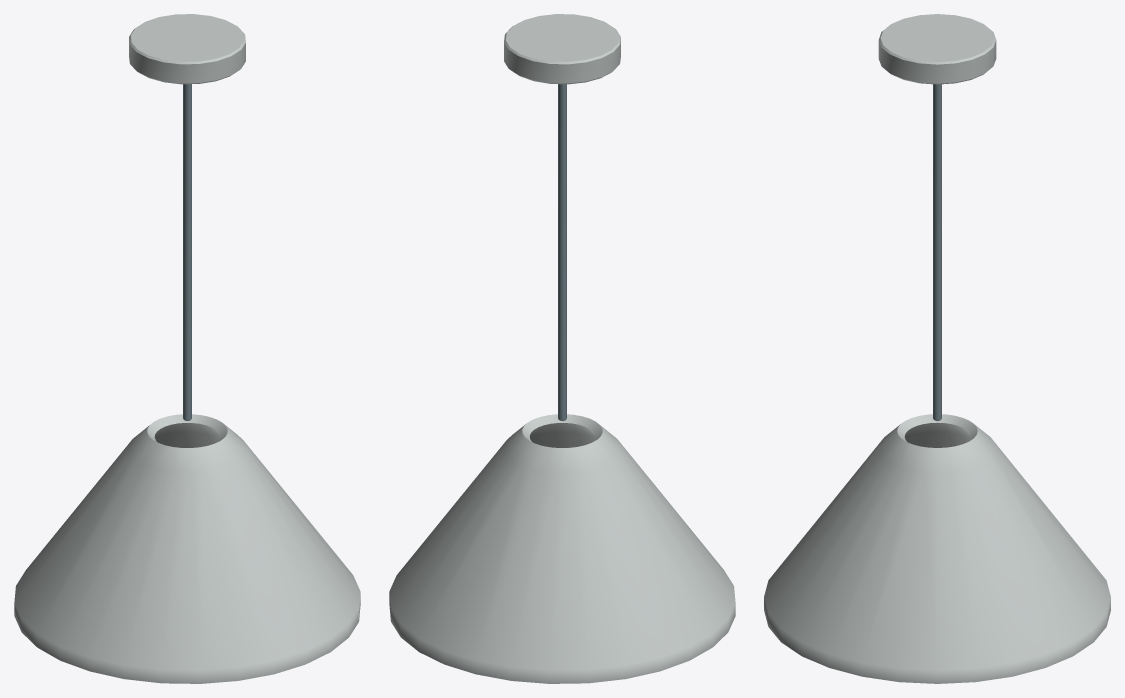
File: ceiling-lamp.glb
The picture shows the model from 3 angles, left to right: view 1: azimuth 30°, elevation 25°; view 2: azimuth 150°, elevation 25°; view 3: azimuth 270°, elevation 25°; orthographic projection.
Parts seen in each view (by area): view 1: shade, ceiling_rose, pendant_cord; view 2: shade, ceiling_rose, pendant_cord; view 3: shade, ceiling_rose, pendant_cord.
Part boxes in pixels (x1,y1,x2,y2): shade: (14, 414, 360, 683); ceiling_rose: (129, 14, 245, 84); pendant_cord: (183, 84, 191, 420); shade: (389, 414, 735, 683); ceiling_rose: (504, 14, 620, 84); pendant_cord: (558, 84, 566, 420); shade: (764, 414, 1110, 683); ceiling_rose: (878, 14, 996, 84); pendant_cord: (933, 84, 941, 420).
Bounding box in the file's own units: 0.56 × 1.02 × 0.56.
